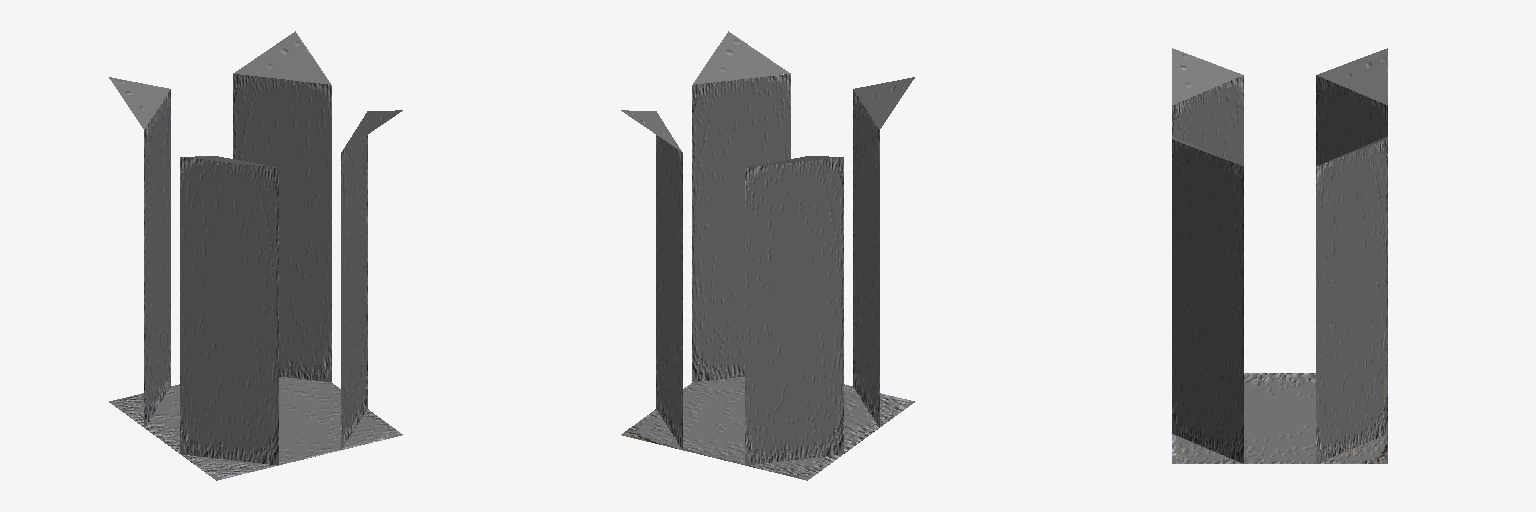
3 views of the same model, side by side, from view 1: azimuth 30°, elevation 25°; view 2: azimuth 150°, elevation 25°; view 3: azimuth 270°, elevation 25° (orthographic).
Visible parts, largest first — view 1: WallCross polySurface16, polySurface15 WallCross, WallCross polySurface13, WallCross polySurface20, WallCross polySurface18, WallCross polySurface14, WallCross polySurface21, WallCross polySurface19; view 2: WallCross polySurface20, WallCross polySurface18, WallCross polySurface13, WallCross polySurface16, polySurface15 WallCross, WallCross polySurface19, WallCross polySurface17, WallCross polySurface14; view 3: polySurface15 WallCross, WallCross polySurface18, WallCross polySurface13, WallCross polySurface16, WallCross polySurface20, WallCross polySurface17, WallCross polySurface21.
Part boxes in pixels (bbox=[...]): WallCross polySurface16: bbox=[180, 157, 278, 465]; polySurface15 WallCross: bbox=[233, 74, 331, 381]; WallCross polySurface13: bbox=[109, 377, 402, 480]; WallCross polySurface20: bbox=[144, 89, 170, 427]; WallCross polySurface18: bbox=[341, 135, 367, 449]; WallCross polySurface14: bbox=[233, 31, 330, 84]; WallCross polySurface21: bbox=[109, 77, 169, 129]; WallCross polySurface19: bbox=[341, 110, 402, 152]; WallCross polySurface20: bbox=[745, 157, 843, 465]; WallCross polySurface18: bbox=[692, 74, 790, 381]; WallCross polySurface13: bbox=[621, 377, 914, 480]; WallCross polySurface16: bbox=[853, 89, 879, 427]; polySurface15 WallCross: bbox=[656, 135, 682, 449]; WallCross polySurface19: bbox=[693, 31, 790, 84]; WallCross polySurface17: bbox=[854, 77, 914, 129]; WallCross polySurface14: bbox=[621, 110, 682, 152]; polySurface15 WallCross: bbox=[1316, 139, 1387, 463]; WallCross polySurface18: bbox=[1172, 139, 1243, 463]; WallCross polySurface13: bbox=[1172, 373, 1387, 463]; WallCross polySurface16: bbox=[1172, 75, 1243, 165]; WallCross polySurface20: bbox=[1316, 75, 1387, 165]; WallCross polySurface17: bbox=[1172, 48, 1242, 104]; WallCross polySurface21: bbox=[1317, 48, 1387, 104].
Bounding box in the file's own units: 6 × 9.95 × 6.
1 materials, 1 textured.